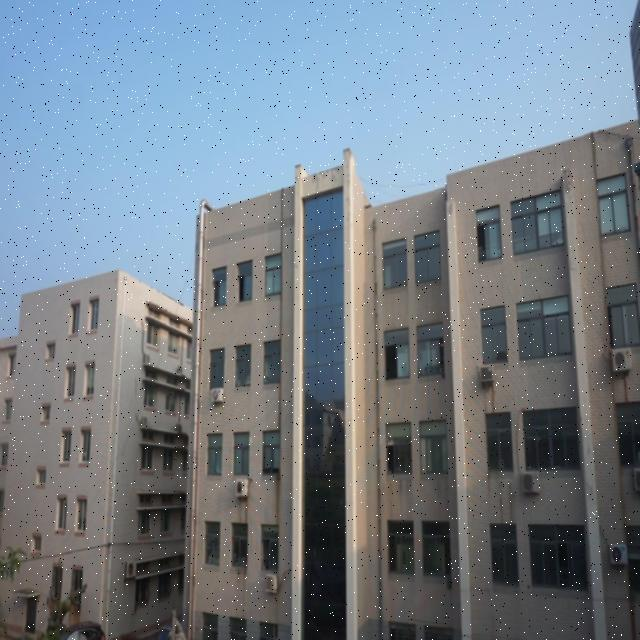UAV: (385, 434, 392, 443)
